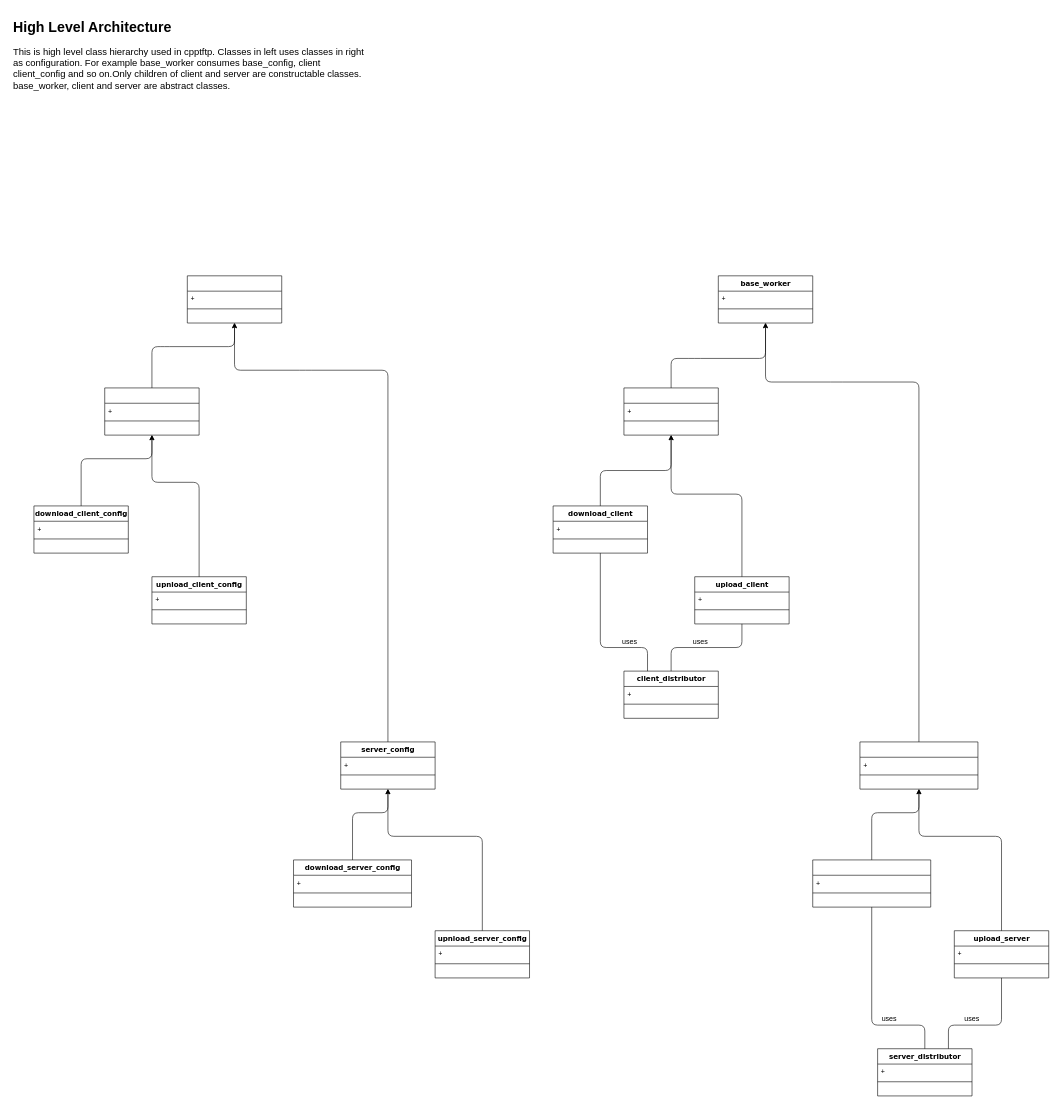
This 1059x1106 diagram has some shape labels left out. Each missing label, with the box of its shape:
base_config: (187, 275, 282, 323)
client: (623, 387, 718, 435)
client_config: (104, 387, 199, 435)
download_server: (812, 859, 931, 907)
server: (859, 741, 978, 789)
